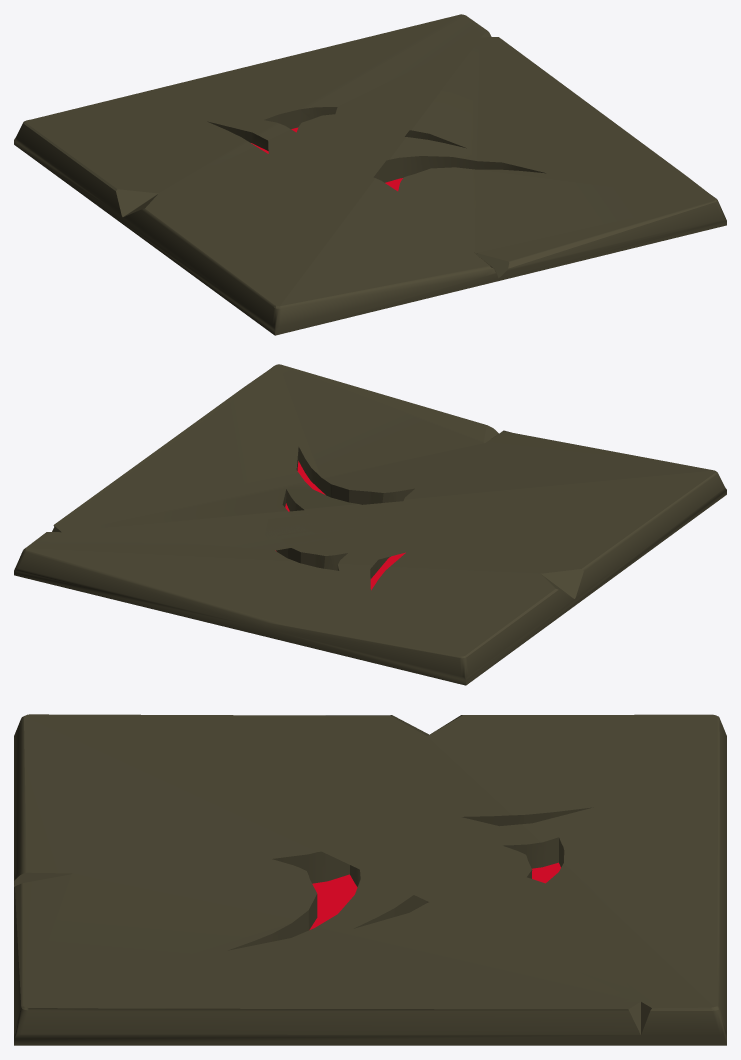
Rendered from F-dalle.fbx.
3 renders of one model, top to bottom at view 1: azimuth 30°, elevation 25°; view 2: azimuth 150°, elevation 25°; view 3: azimuth 270°, elevation 25°, orthographic. The views are drawn at different scales.
Parts seen in each view (by area): view 1: pCube145; view 2: pCube145; view 3: pCube145.
Part boxes in pixels (x1,y1,x2,y2): pCube145: [14, 14, 726, 335]; pCube145: [14, 364, 726, 685]; pCube145: [14, 714, 726, 1045].
Bounding box in the file's own units: 167 × 8.75 × 167.
